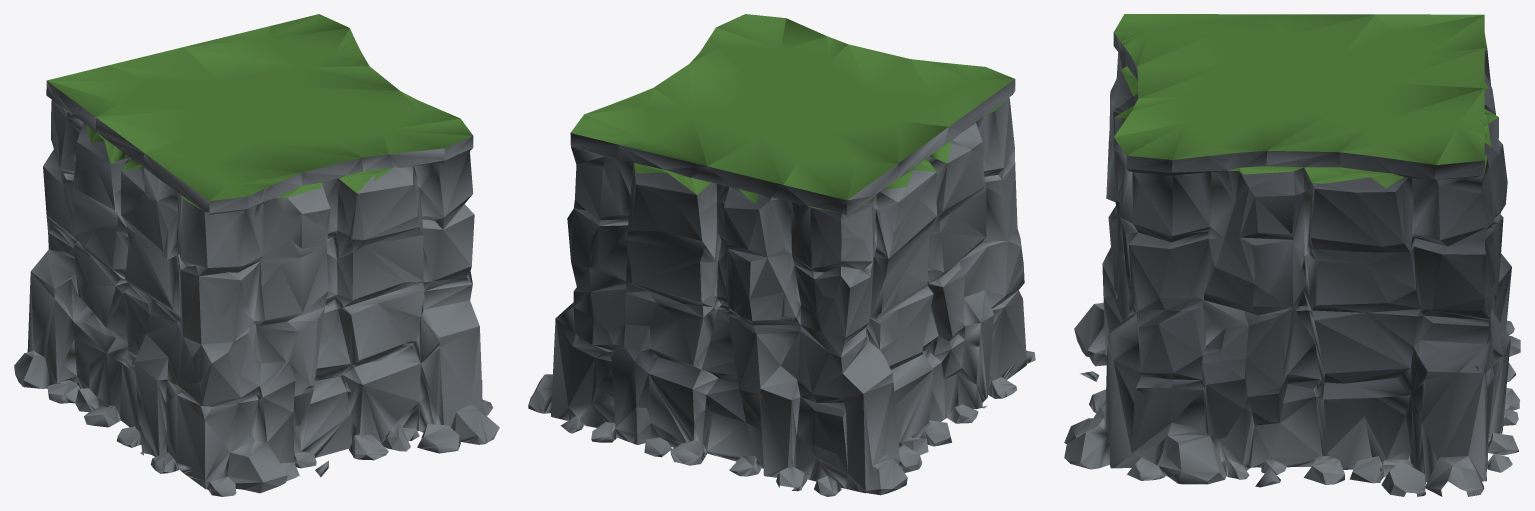
File: mdvl_nature_cliff_corner_01.fbx
The picture shows the model from 3 angles, left to right: view 1: azimuth 30°, elevation 25°; view 2: azimuth 150°, elevation 25°; view 3: azimuth 270°, elevation 25°; orthographic projection. The views are drawn at different scales.
Parts seen in each view (by area): view 1: mdvl_nature_cliff_corner_01; view 2: mdvl_nature_cliff_corner_01; view 3: mdvl_nature_cliff_corner_01.
Boxes of the visible parts, x1,y1,x2,y2 form: mdvl_nature_cliff_corner_01: (14, 14, 499, 496); mdvl_nature_cliff_corner_01: (528, 14, 1035, 496); mdvl_nature_cliff_corner_01: (1064, 14, 1520, 496).
Size of the model in its own units: 4 by 3 by 3.99.
